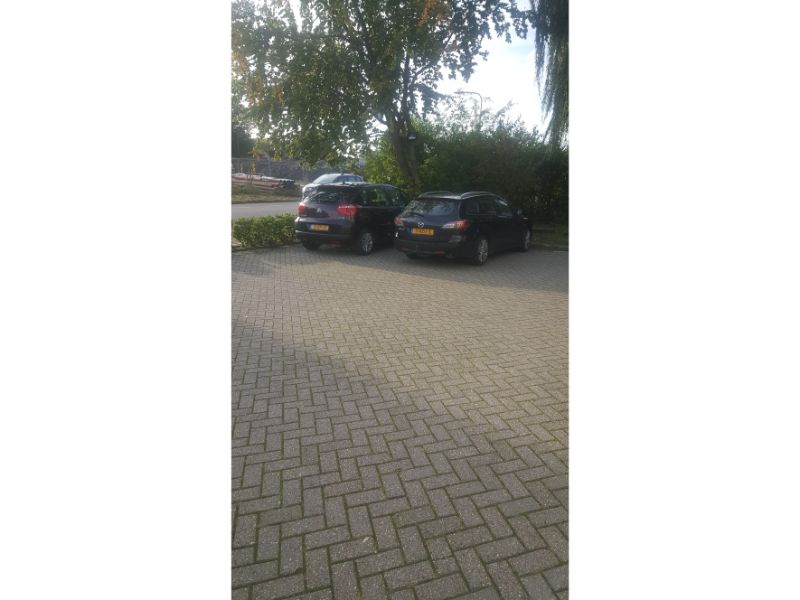kenteken: (408, 227, 434, 236), (308, 223, 331, 233)
